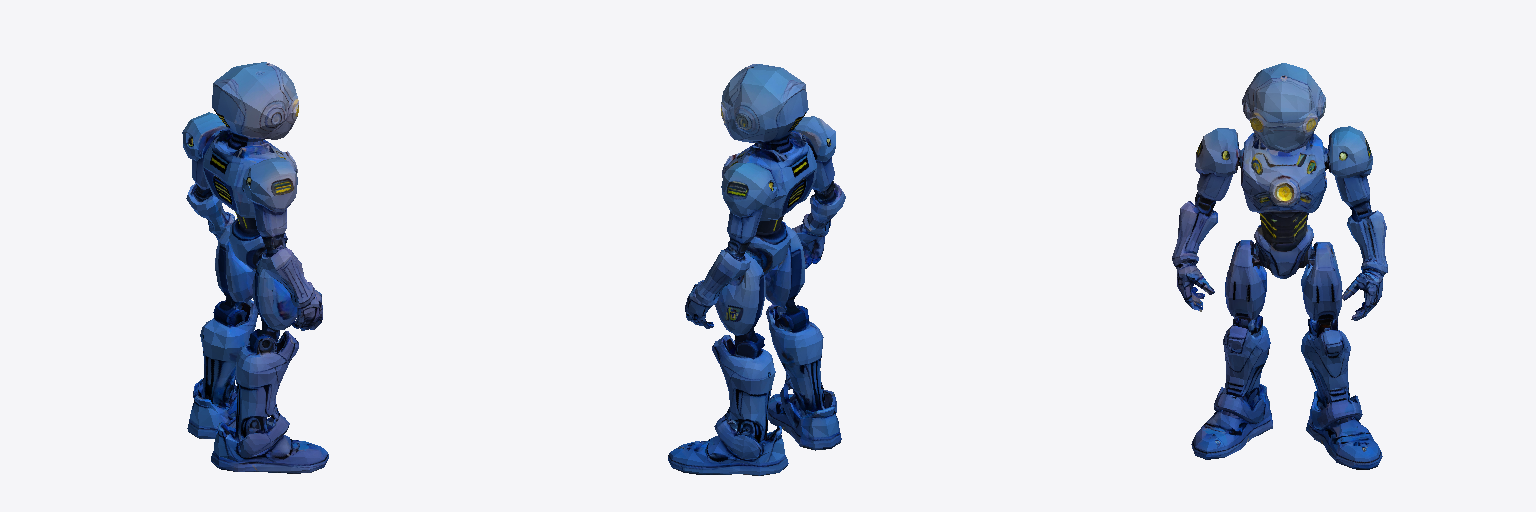
3 renders of one model, left to right at view 1: azimuth 30°, elevation 25°; view 2: azimuth 150°, elevation 25°; view 3: azimuth 270°, elevation 25°, orthographic.
Parts seen in each view (by area): view 1: tripo_node_3823d647-9628-441e-80a1-8c0f9fb62898; view 2: tripo_node_3823d647-9628-441e-80a1-8c0f9fb62898; view 3: tripo_node_3823d647-9628-441e-80a1-8c0f9fb62898.
Part boxes in pixels (x1,y1,x2,y2): tripo_node_3823d647-9628-441e-80a1-8c0f9fb62898: (182,62,328,473); tripo_node_3823d647-9628-441e-80a1-8c0f9fb62898: (668,64,845,475); tripo_node_3823d647-9628-441e-80a1-8c0f9fb62898: (1172,63,1387,469).
Size of the model in its own units: 0.2977 by 0.968 by 0.5038.
Materials: 1 (1 with a texture image).